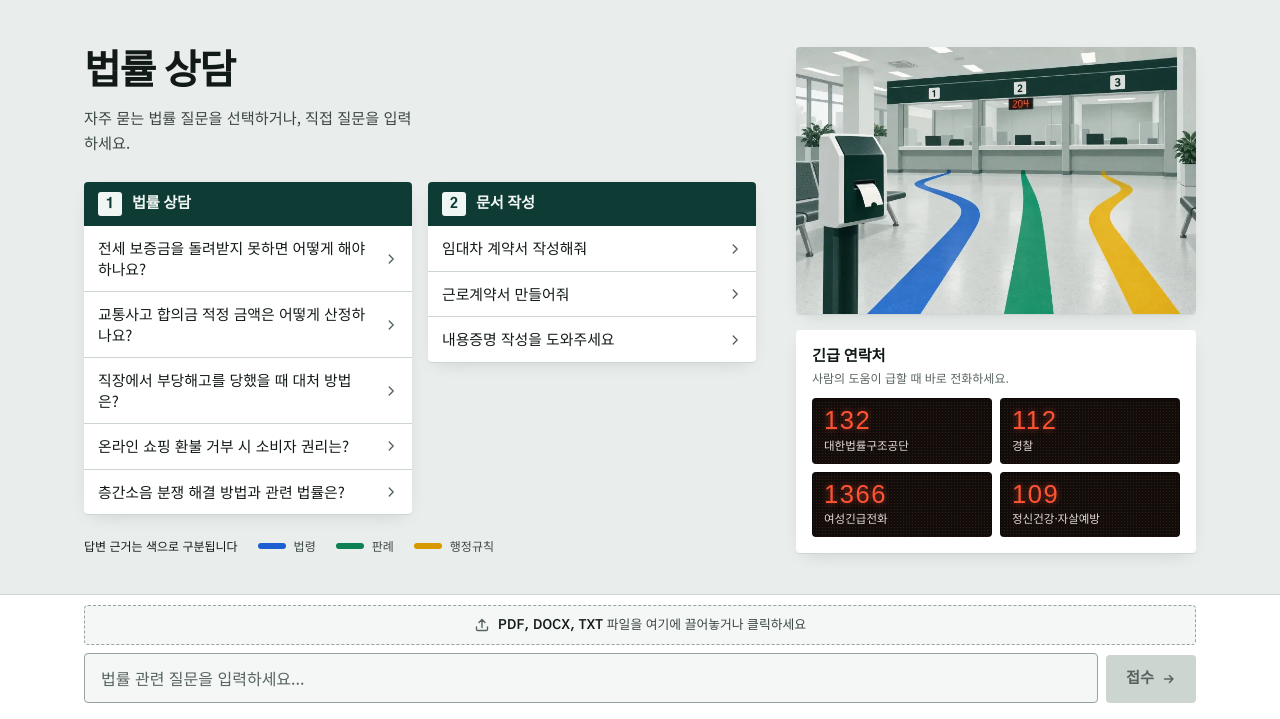
ChatContainer › 스트림 오류 시 재시도 › 재시도가 상한(3회)에 도달하면 버튼 대신 안내 문구를 표시해야 한다
Click the button "임대차 계약서 작성해줘".
click(515, 248)  # box x1=428 y1=226 x2=756 y2=271
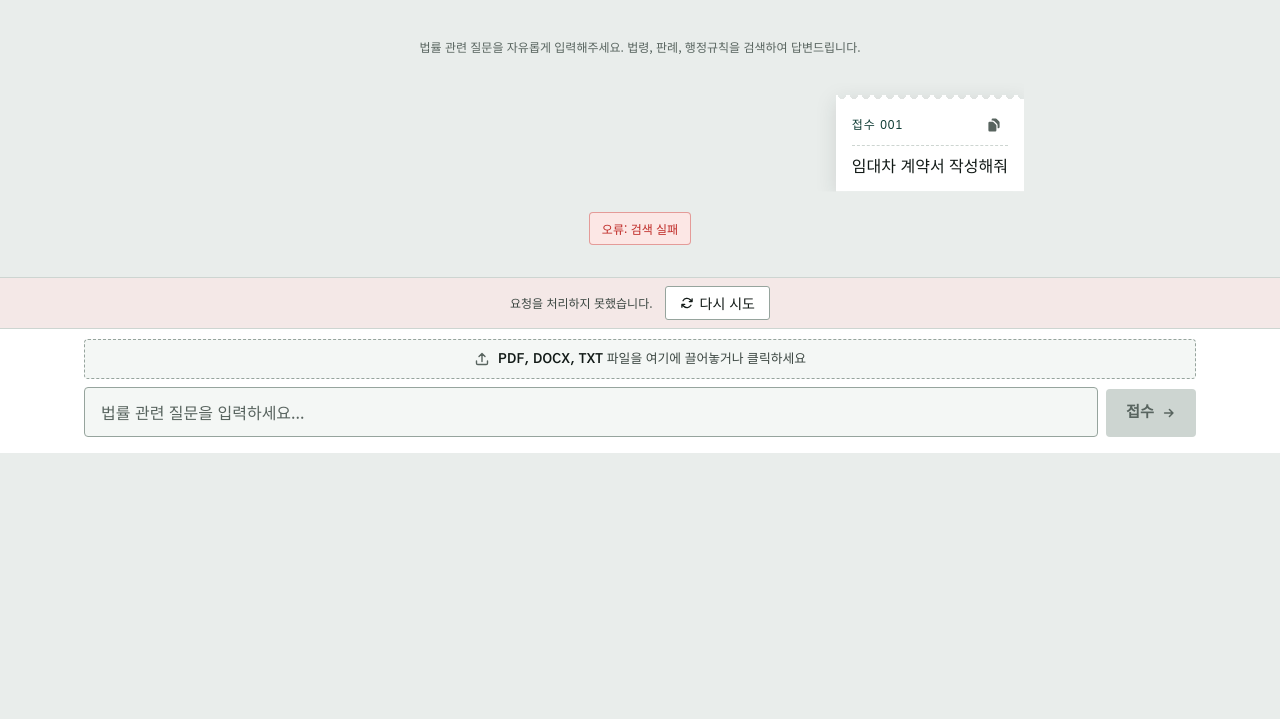
Click the button "다시 시도".
click(717, 303)  # box x1=664 y1=286 x2=770 y2=320
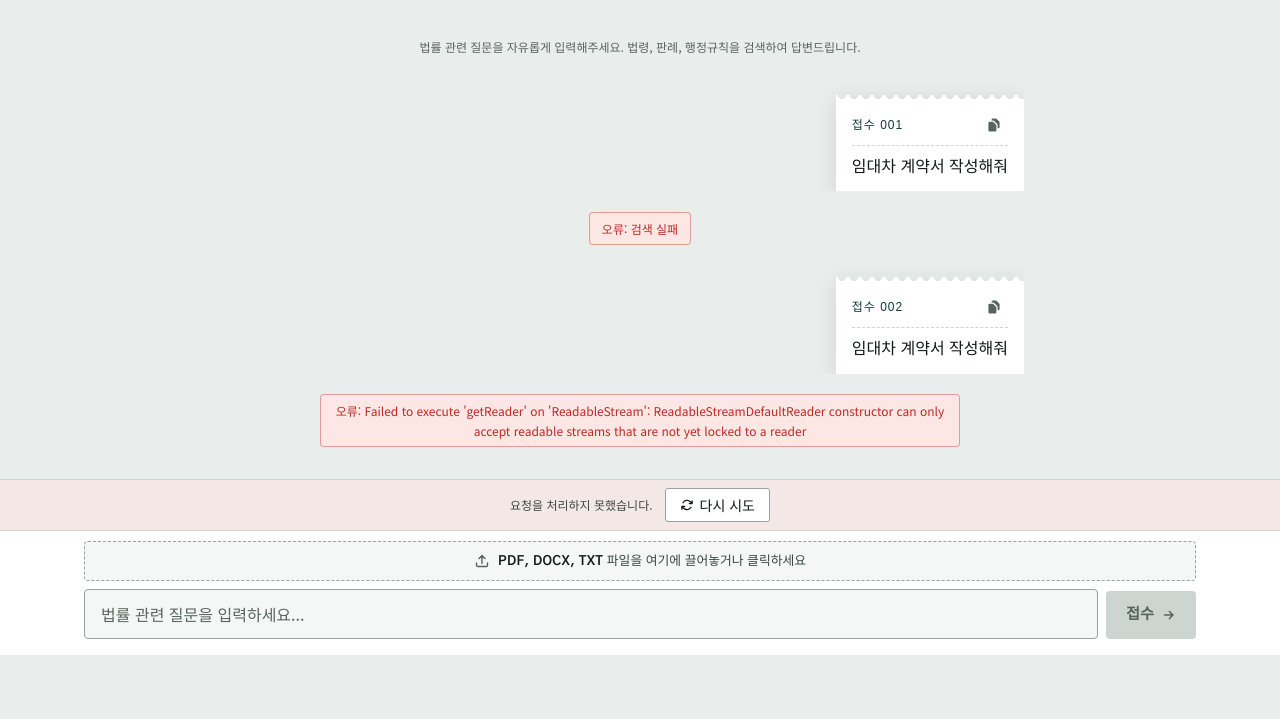
Click the button "다시 시도".
click(717, 505)  # box x1=664 y1=488 x2=770 y2=522
(page scrolled)
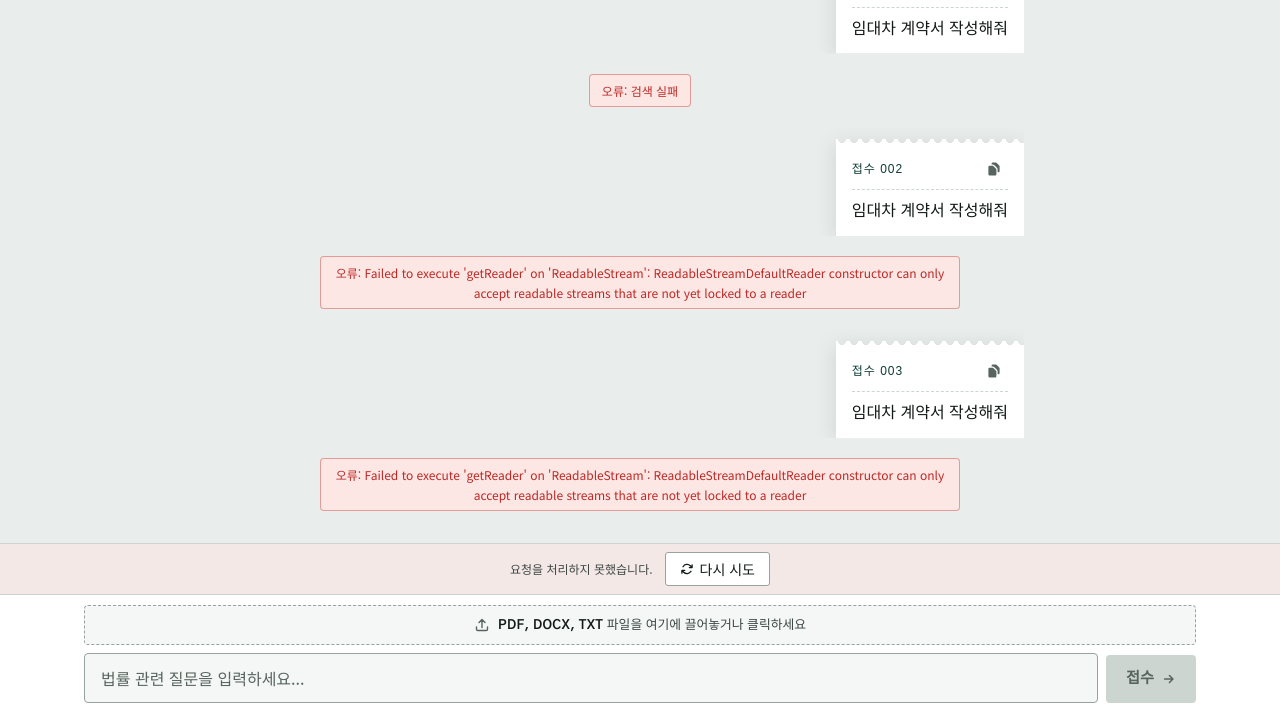
Click the button "다시 시도".
click(717, 569)  # box x1=664 y1=552 x2=770 y2=586
(page scrolled)
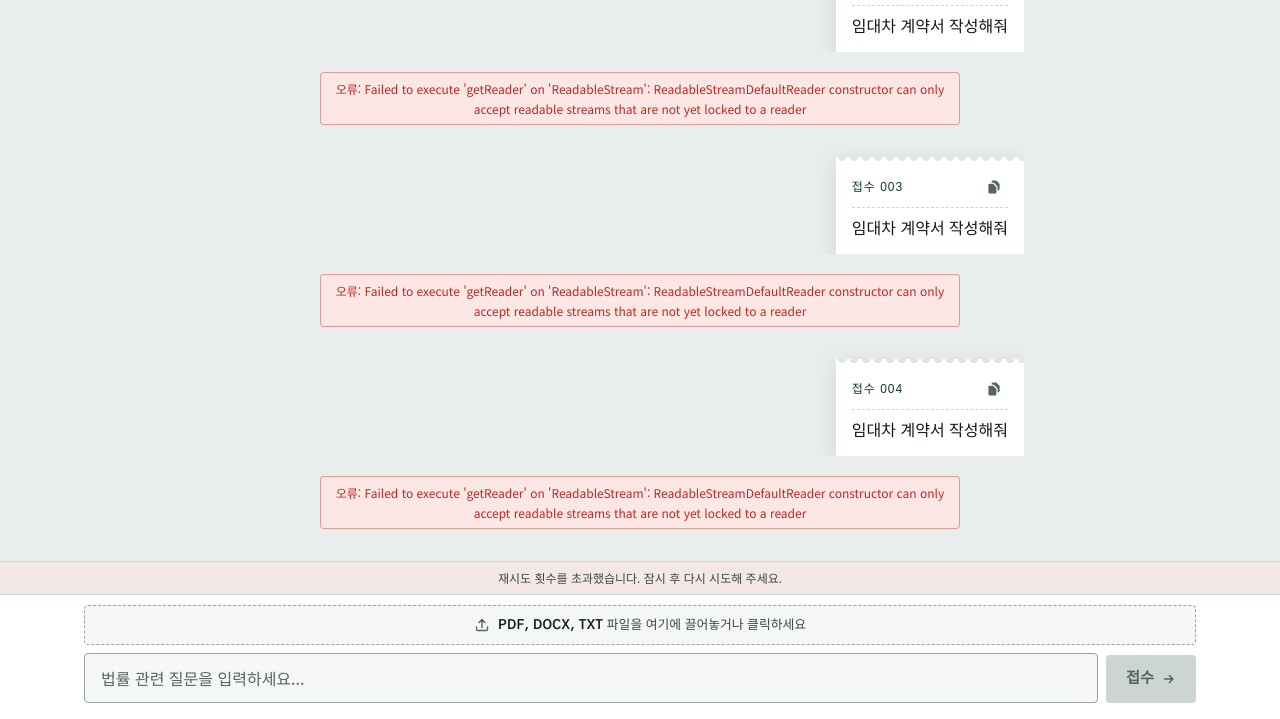
Expected: the text "재시도 횟수를 초과했습니다. 잠시 후 다시 시도해 주세요." is shown, x1=498 y1=570 x2=782 y2=586
